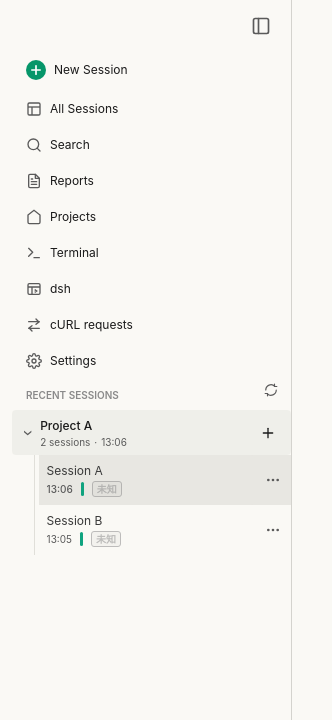
Test case: Sidebar recent session browsing › shows checkboxes only during menu-initiated archiving (isDesktop=true)
Click the 1st button named "options".
click(273, 480)  # box [259,466,287,494]
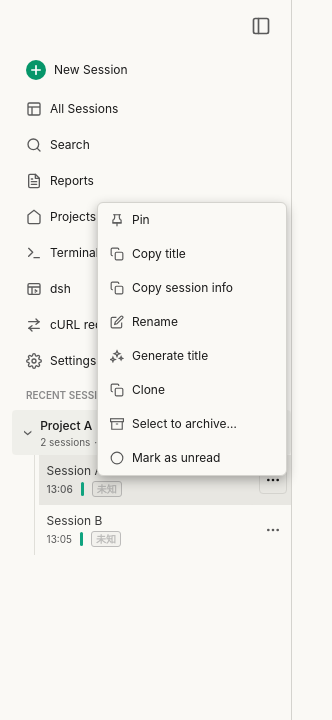
Click the button "Select to archive…".
click(192, 424)  # box [98,407,286,441]
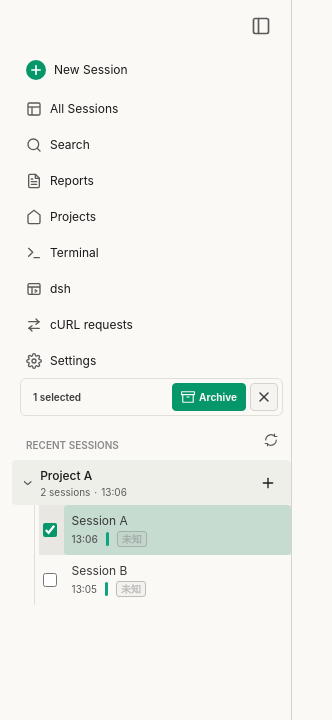
Expected: the number of checkboxes is 2, [43,523,57,537]; [43,573,57,587]
Expected: the checkbox named "Select Session A" is checked, [43,523,57,537]
Click the text "Session B".
click(100, 570)  # box [72,563,127,578]
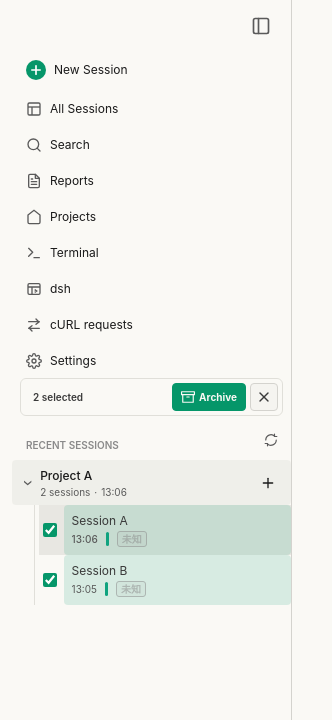
Expected: the checkbox named "Select Session B" is checked, [43,573,57,587]
Click the button "Archive".
click(209, 397)  # box [172,383,246,411]
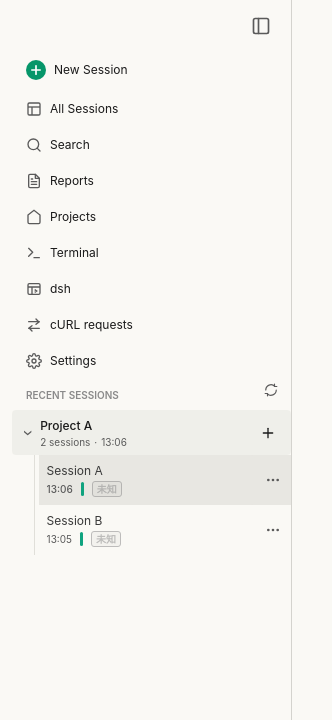
Expected: no checkboxes are shown
